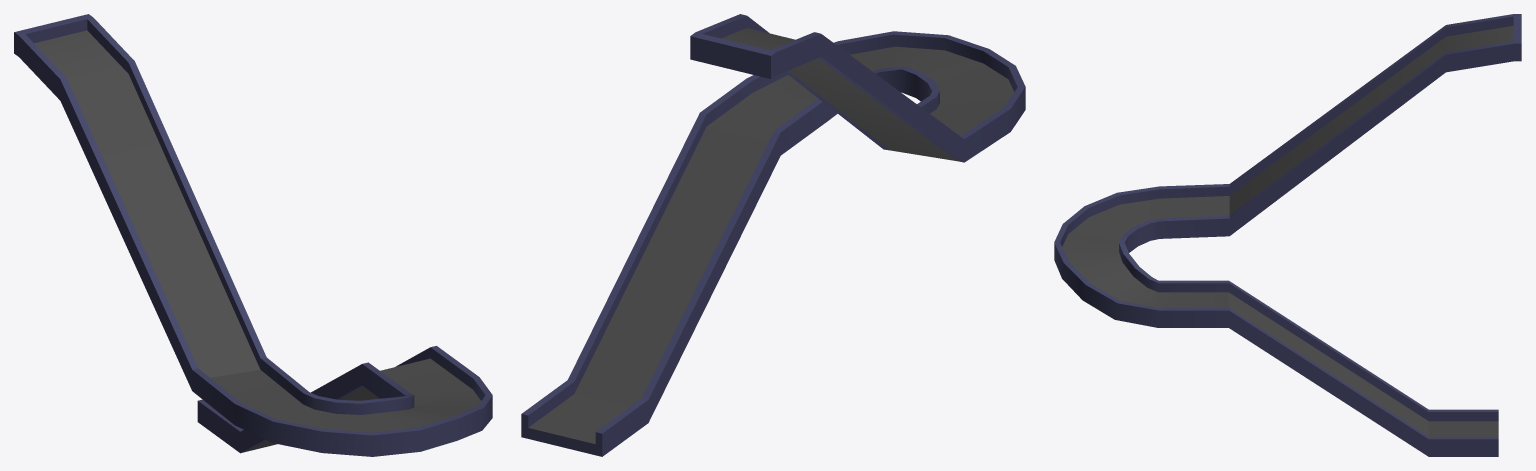
File: SM_Road.fbx
3 views of the same model, side by side, from view 1: azimuth 30°, elevation 25°; view 2: azimuth 150°, elevation 25°; view 3: azimuth 270°, elevation 25° (orthographic). The views are drawn at different scales.
Visible parts, largest first — view 1: Road; view 2: Road; view 3: Road.
Part boxes in pixels (<box>): Road: <box>14,14,492,456</box>; Road: <box>521,14,1025,456</box>; Road: <box>1054,14,1521,456</box>.
Size of the model in its own units: 1325 by 655 by 1080.
